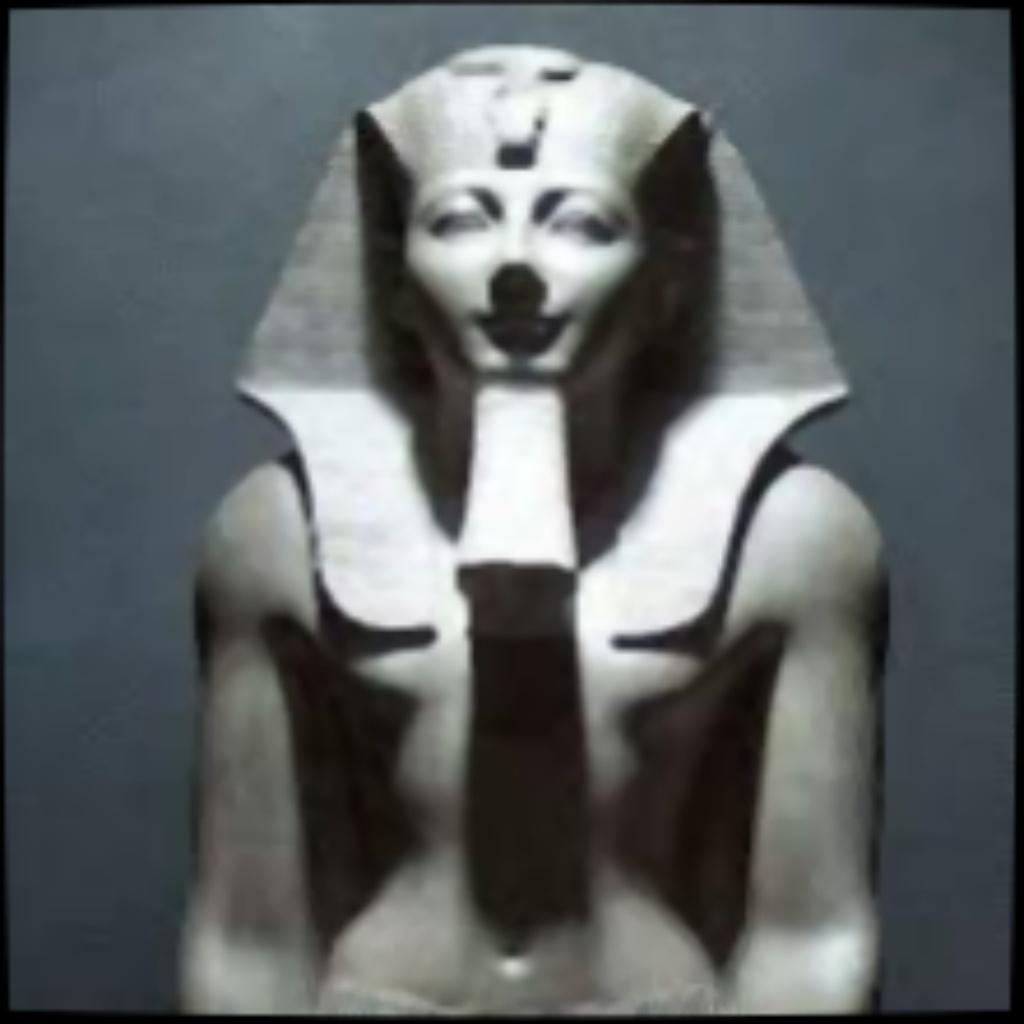King Thutmose III: (162, 36, 894, 1010)
